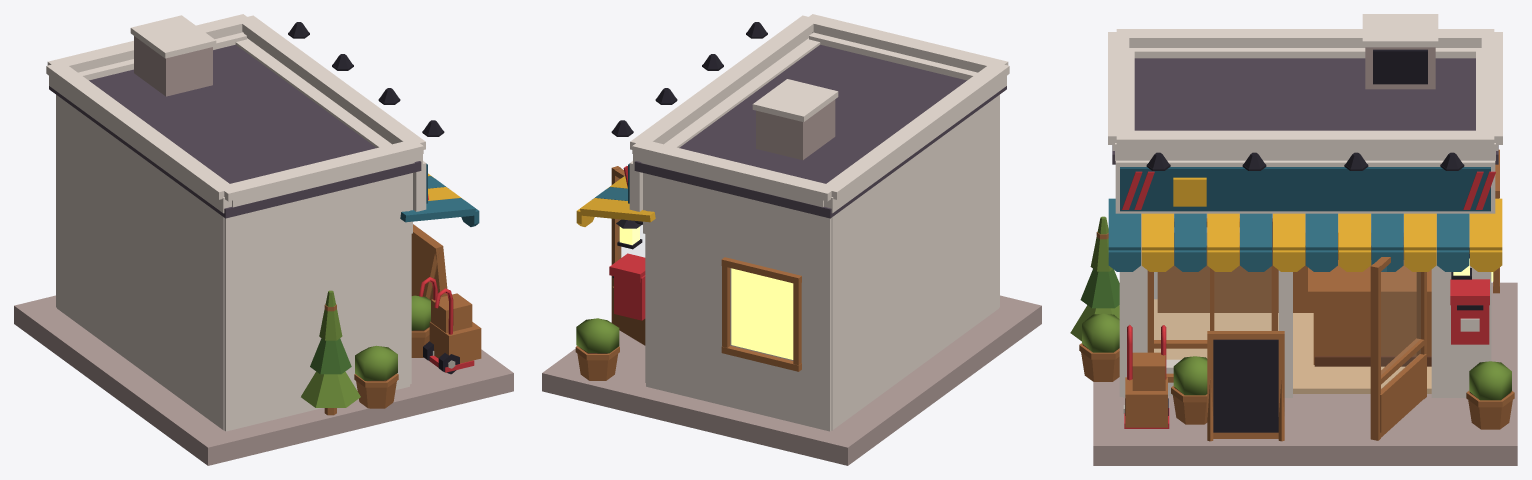
The picture shows the model from 3 angles, left to right: view 1: azimuth 30°, elevation 25°; view 2: azimuth 150°, elevation 25°; view 3: azimuth 270°, elevation 25°; orthographic projection. The views are drawn at different scales.
Parts seen in each view (by area): view 1: body, roof; view 2: body, roof, window_side_emi_windowGlow, door_main; view 3: body, roof, interior, door_main.
Boxes of the visible parts, <box> form: body: <box>14,32,513,465</box>; roof: <box>46,14,444,218</box>; body: <box>542,32,1041,465</box>; roof: <box>611,14,1009,218</box>; window_side_emi_windowGlow: <box>731,268,793,359</box>; door_main: <box>611,166,645,345</box>; body: <box>1070,48,1517,465</box>; roof: <box>1108,14,1502,170</box>; interior: <box>1154,233,1431,393</box>; door_main: <box>1370,237,1426,440</box>.
Bounding box in the file's own units: 4.55 × 4.31 × 5.27.
